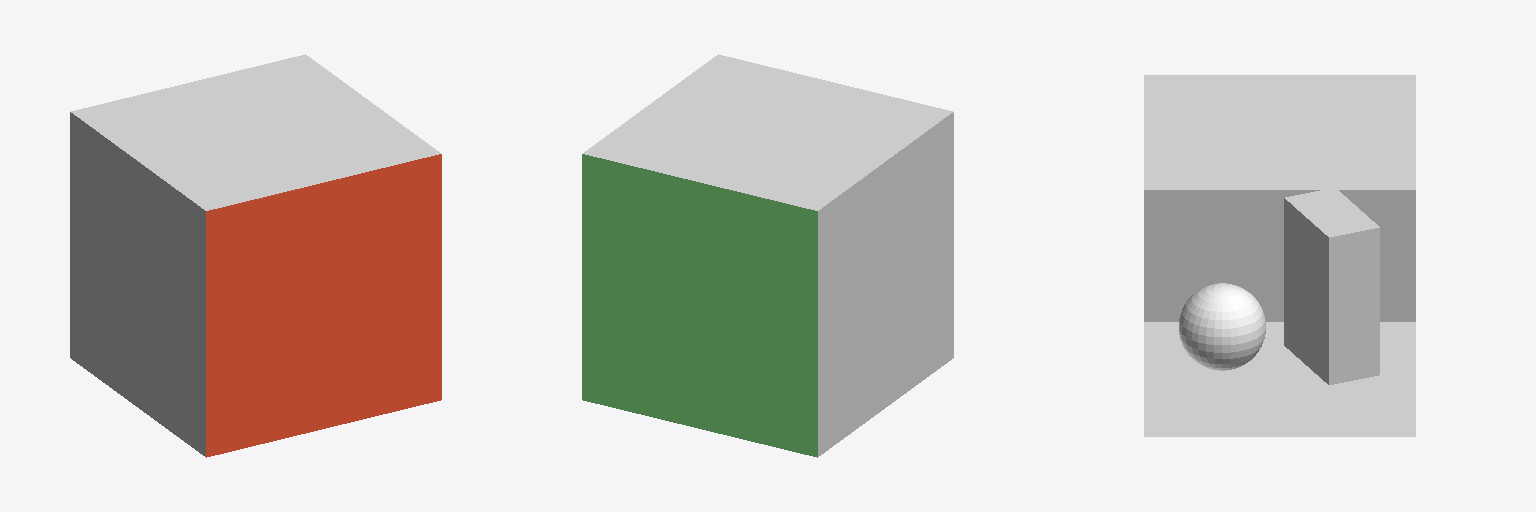
Rendered from cornell3.obj.
3 renders of one model, left to right at view 1: azimuth 30°, elevation 25°; view 2: azimuth 150°, elevation 25°; view 3: azimuth 270°, elevation 25°, orthographic.
Visible parts, largest first — view 1: Mesh.003_Mesh.002_Mesh.004_Mes, Mesh.002_Mesh.005_Mesh.003_Mes; view 2: Mesh.003_Mesh.002_Mesh.004_Mes, Mesh.004_Mesh.001_Mesh.001_Mes; view 3: Mesh.003_Mesh.002_Mesh.004_Mes, Sphere.
Boxes of the visible parts, x1=… form: Mesh.003_Mesh.002_Mesh.004_Mes: x1=70, y1=54, x2=440, y2=456; Mesh.002_Mesh.005_Mesh.003_Mes: x1=206, y1=154, x2=441, y2=457; Mesh.003_Mesh.002_Mesh.004_Mes: x1=583, y1=54, x2=953, y2=456; Mesh.004_Mesh.001_Mesh.001_Mes: x1=582, y1=154, x2=817, y2=457; Mesh.003_Mesh.002_Mesh.004_Mes: x1=1144, y1=75, x2=1415, y2=436; Sphere: x1=1179, y1=283, x2=1265, y2=370.
Bounding box in the file's own units: 10 × 10 × 10.